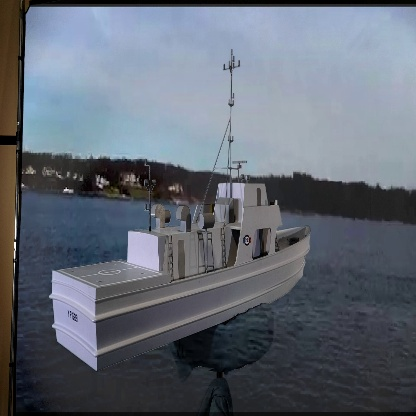YP689: (51, 51, 312, 372)
